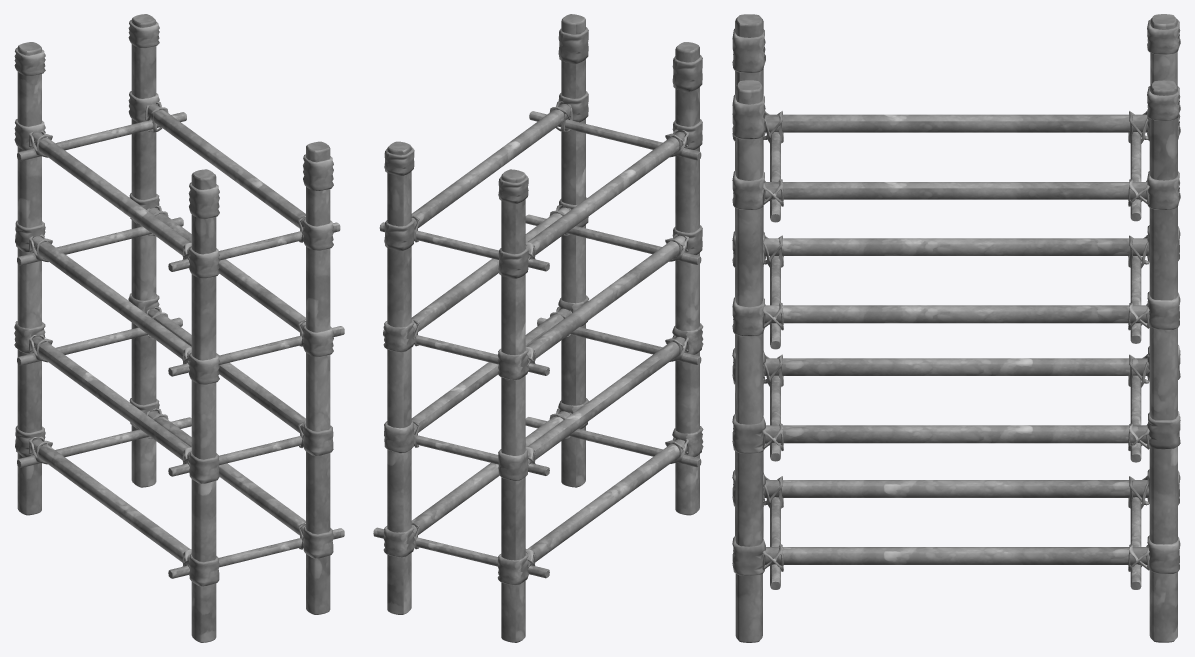
Rendered from SM_WoodStand_01a.fbx.
3 renders of one model, left to right at view 1: azimuth 30°, elevation 25°; view 2: azimuth 150°, elevation 25°; view 3: azimuth 270°, elevation 25°, orthographic. The views are drawn at different scales.
Visible parts, largest first — view 1: SM_WoodStand_01a_LOD0; view 2: SM_WoodStand_01a_LOD0; view 3: SM_WoodStand_01a_LOD0.
Boxes of the visible parts, x1,y1,x2,y2 form: SM_WoodStand_01a_LOD0: [14, 14, 344, 642]; SM_WoodStand_01a_LOD0: [373, 14, 703, 642]; SM_WoodStand_01a_LOD0: [732, 14, 1180, 642].
Size of the model in its own units: 78.89 by 149 by 203.
